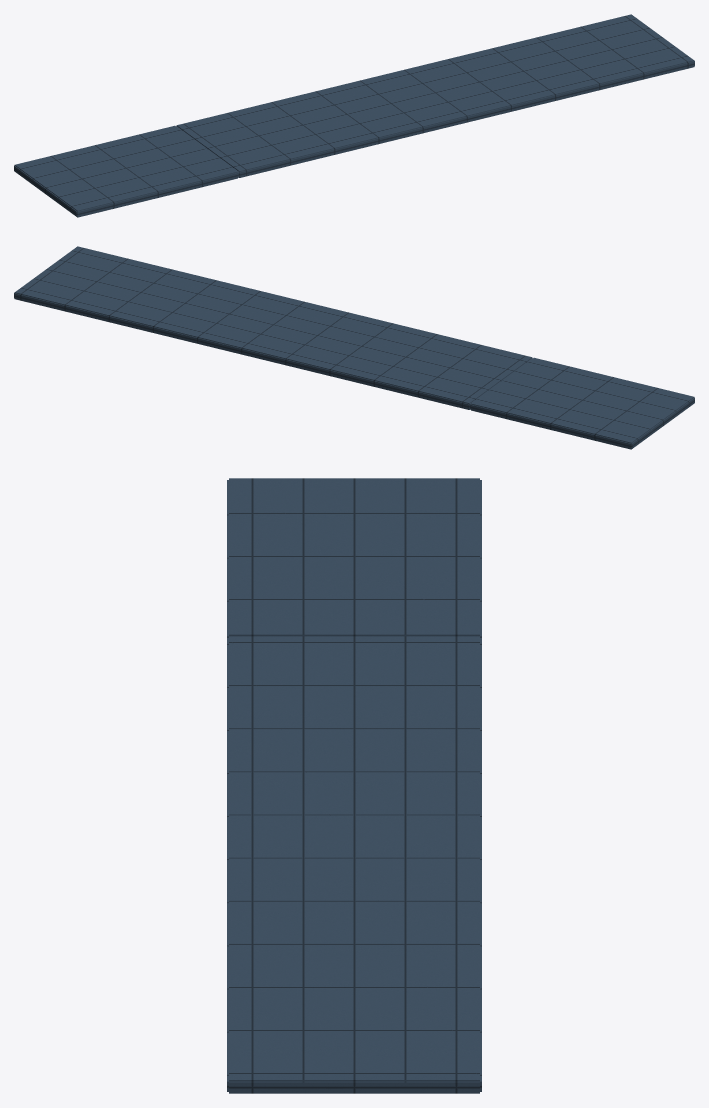
File: v02-detailed--1-03.glb
The picture shows the model from 3 angles, top to bottom: view 1: azimuth 30°, elevation 25°; view 2: azimuth 150°, elevation 25°; view 3: azimuth 270°, elevation 25°; orthographic projection. The views are drawn at different scales.
Visible parts, largest first — view 1: v02-detailed--1-03; view 2: v02-detailed--1-03; view 3: v02-detailed--1-03.
Boxes of the visible parts, <box> form: v02-detailed--1-03: <box>14,14,694,217</box>; v02-detailed--1-03: <box>14,246,694,449</box>; v02-detailed--1-03: <box>227,478,481,1093</box>.
Bounding box in the file's own units: 16.8 × 0.18 × 3.
Materials: 1 (1 with a texture image).
